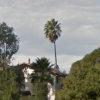Palm tree: (40, 13, 70, 71)
